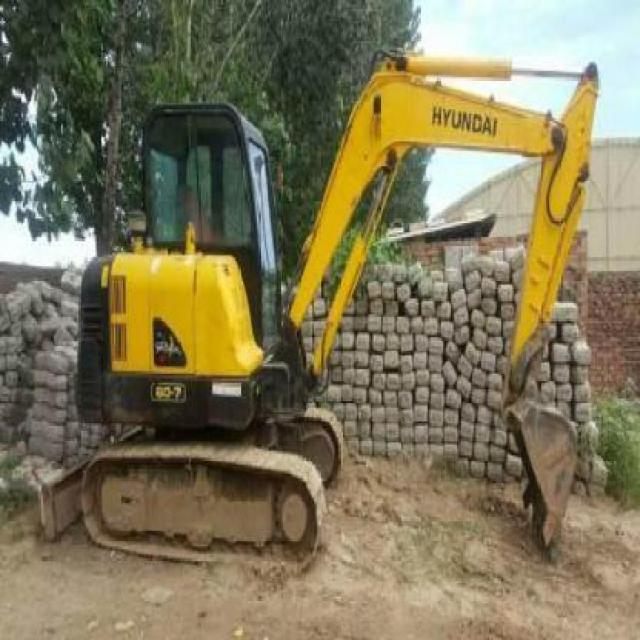Excavator: (76, 43, 598, 555)
